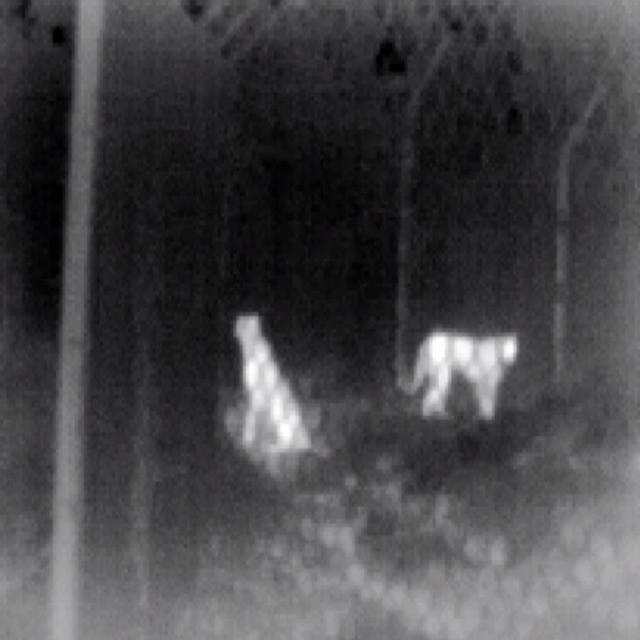cheetah: (400, 333, 519, 416), (237, 315, 306, 453)
